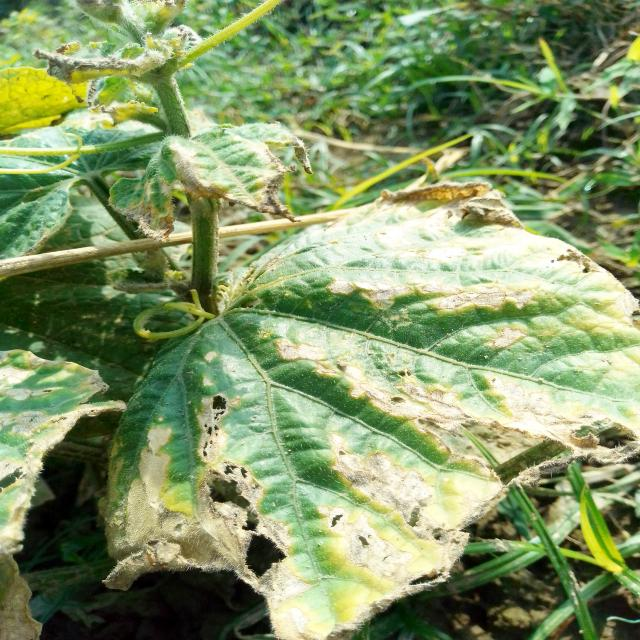Gummy-Stem-Blight: (95, 427, 489, 640), (111, 132, 314, 243)
